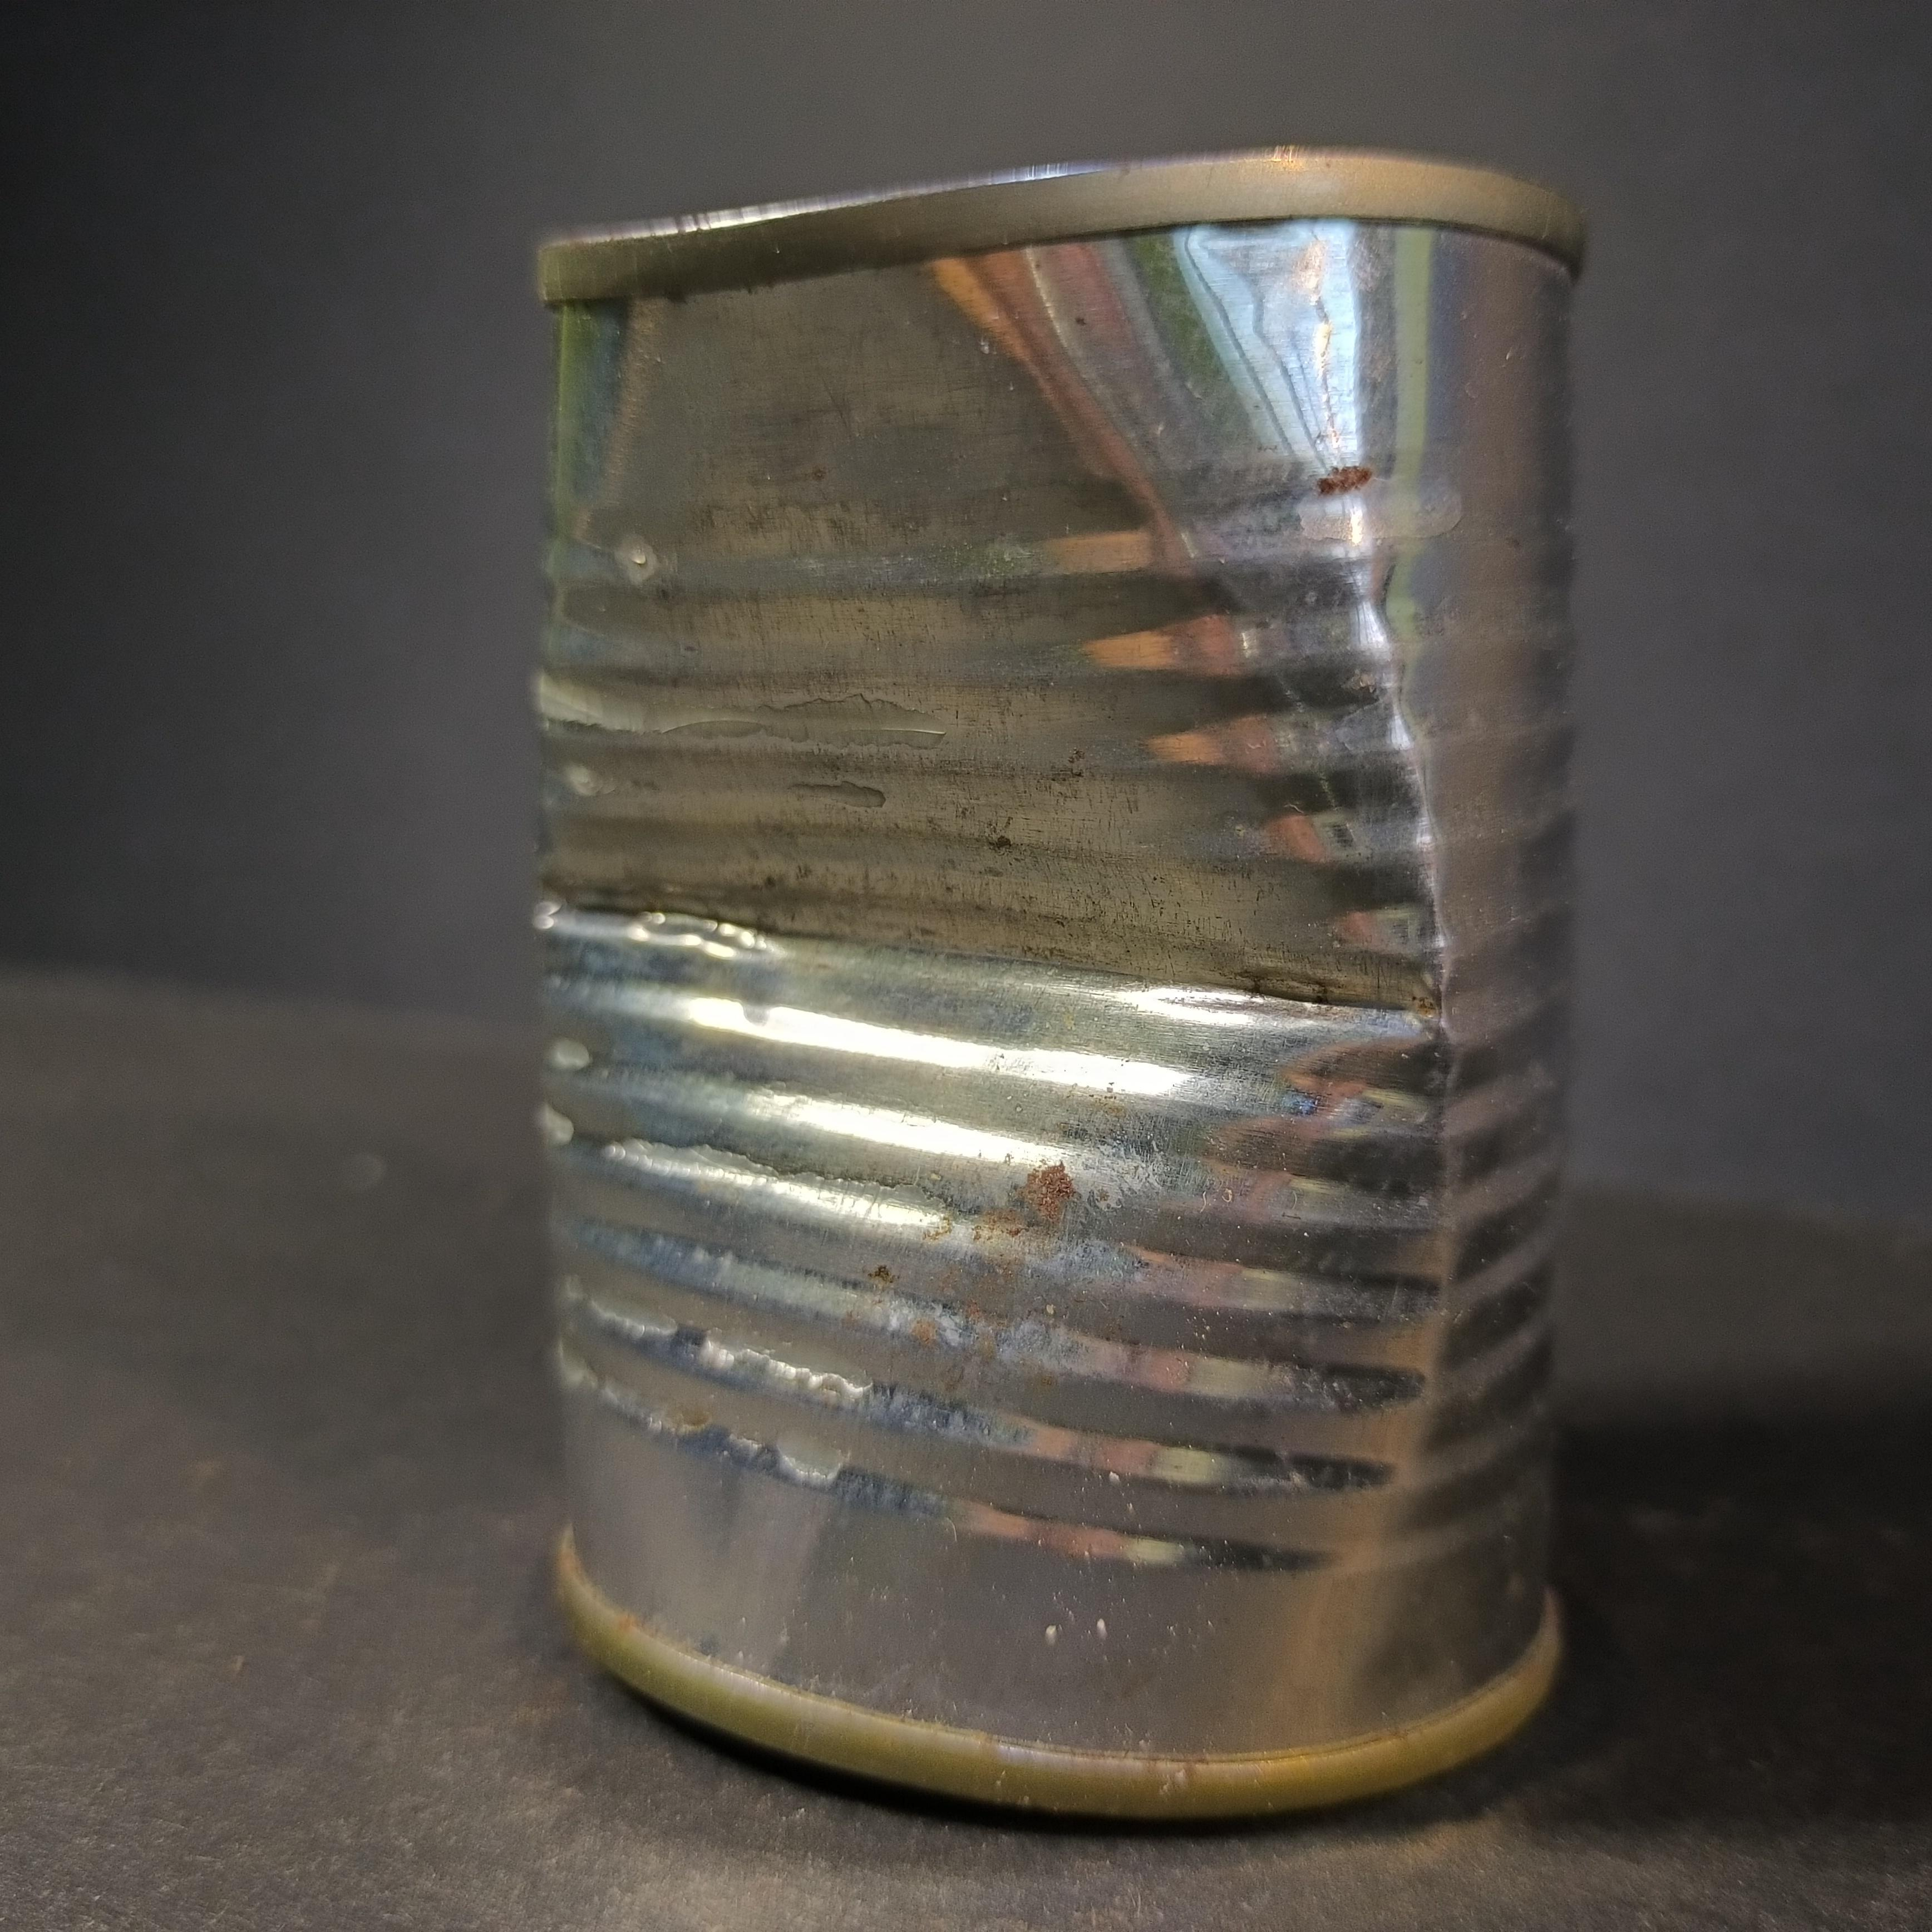Dented: (485, 94, 1608, 1861)
